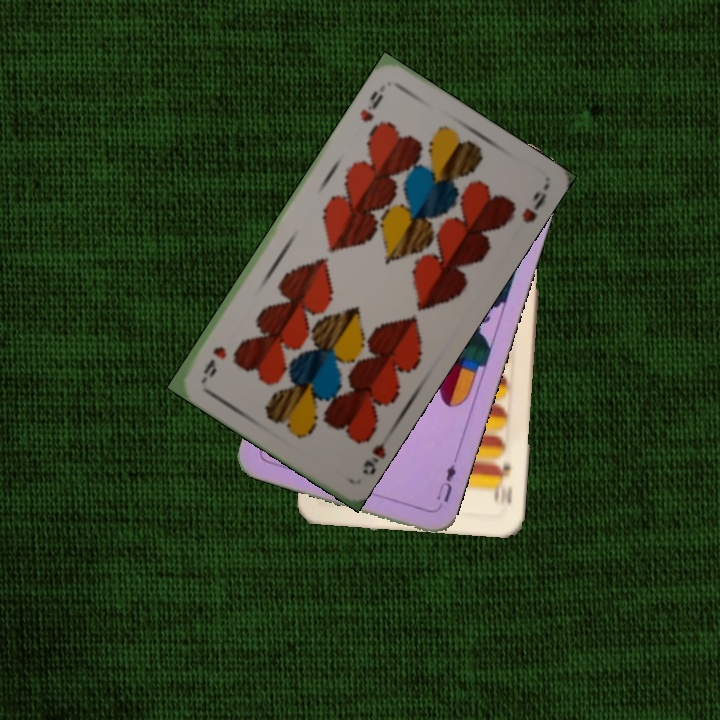E10: (490, 457, 515, 507)
EU: (432, 460, 459, 505)
H9: (358, 439, 388, 478), (356, 86, 386, 125)
